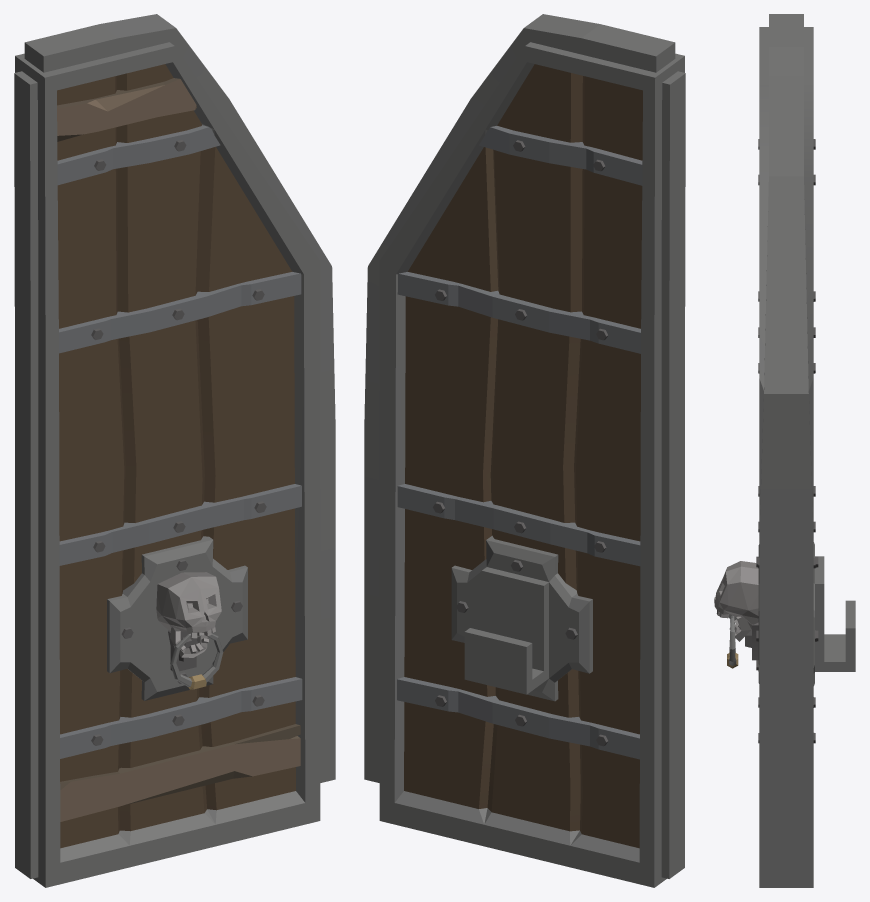
File: SM_Env_Door_Large_Wood_02.FBX
3 renders of one model, left to right at view 1: azimuth 30°, elevation 25°; view 2: azimuth 150°, elevation 25°; view 3: azimuth 270°, elevation 25°, orthographic. The views are drawn at different scales.
Parts seen in each view (by area): view 1: SM_Env_Door_Large_Wood_02; view 2: SM_Env_Door_Large_Wood_02; view 3: SM_Env_Door_Large_Wood_02.
Part boxes in pixels (x1,y1,x2,y2): SM_Env_Door_Large_Wood_02: (14, 14, 335, 887); SM_Env_Door_Large_Wood_02: (364, 14, 685, 887); SM_Env_Door_Large_Wood_02: (714, 14, 855, 887).
Size of what is drawn, in the model's own units: 174 by 78.46 by 461.
